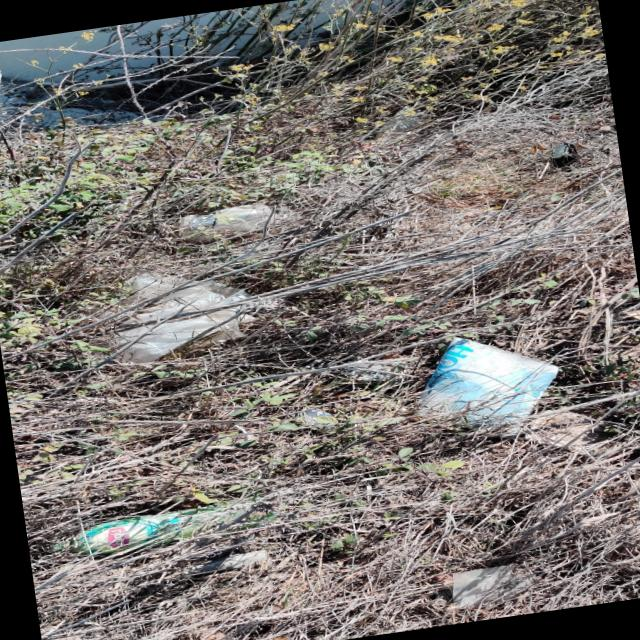less trash: (420, 339, 559, 427), (79, 504, 249, 554)
